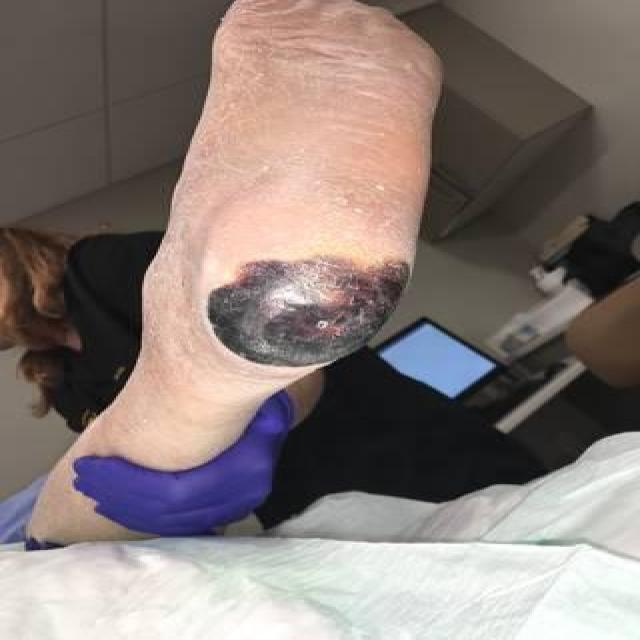Unstageable: (208, 258, 410, 366)
